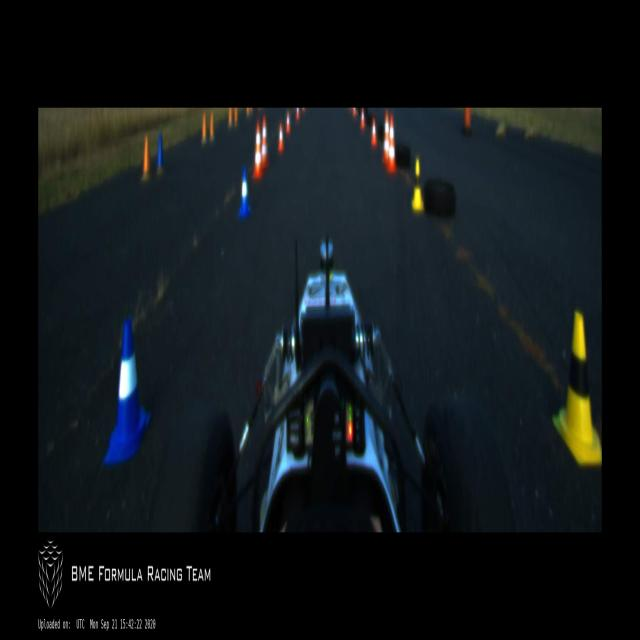blue_cone: (102, 319, 150, 462), (238, 165, 251, 217)
large_orange_cone: (252, 120, 263, 179), (387, 115, 396, 172), (382, 111, 389, 162), (262, 115, 268, 170)
orange_cone: (278, 124, 284, 154), (371, 118, 377, 144), (360, 108, 365, 128), (286, 110, 290, 134), (296, 108, 300, 120)
unknown_cone: (141, 135, 151, 180), (157, 132, 164, 173), (463, 108, 472, 135), (201, 113, 207, 145), (209, 112, 214, 141), (228, 108, 232, 127), (234, 108, 238, 127)
yellow_cone: (552, 312, 602, 464), (412, 159, 424, 211)
